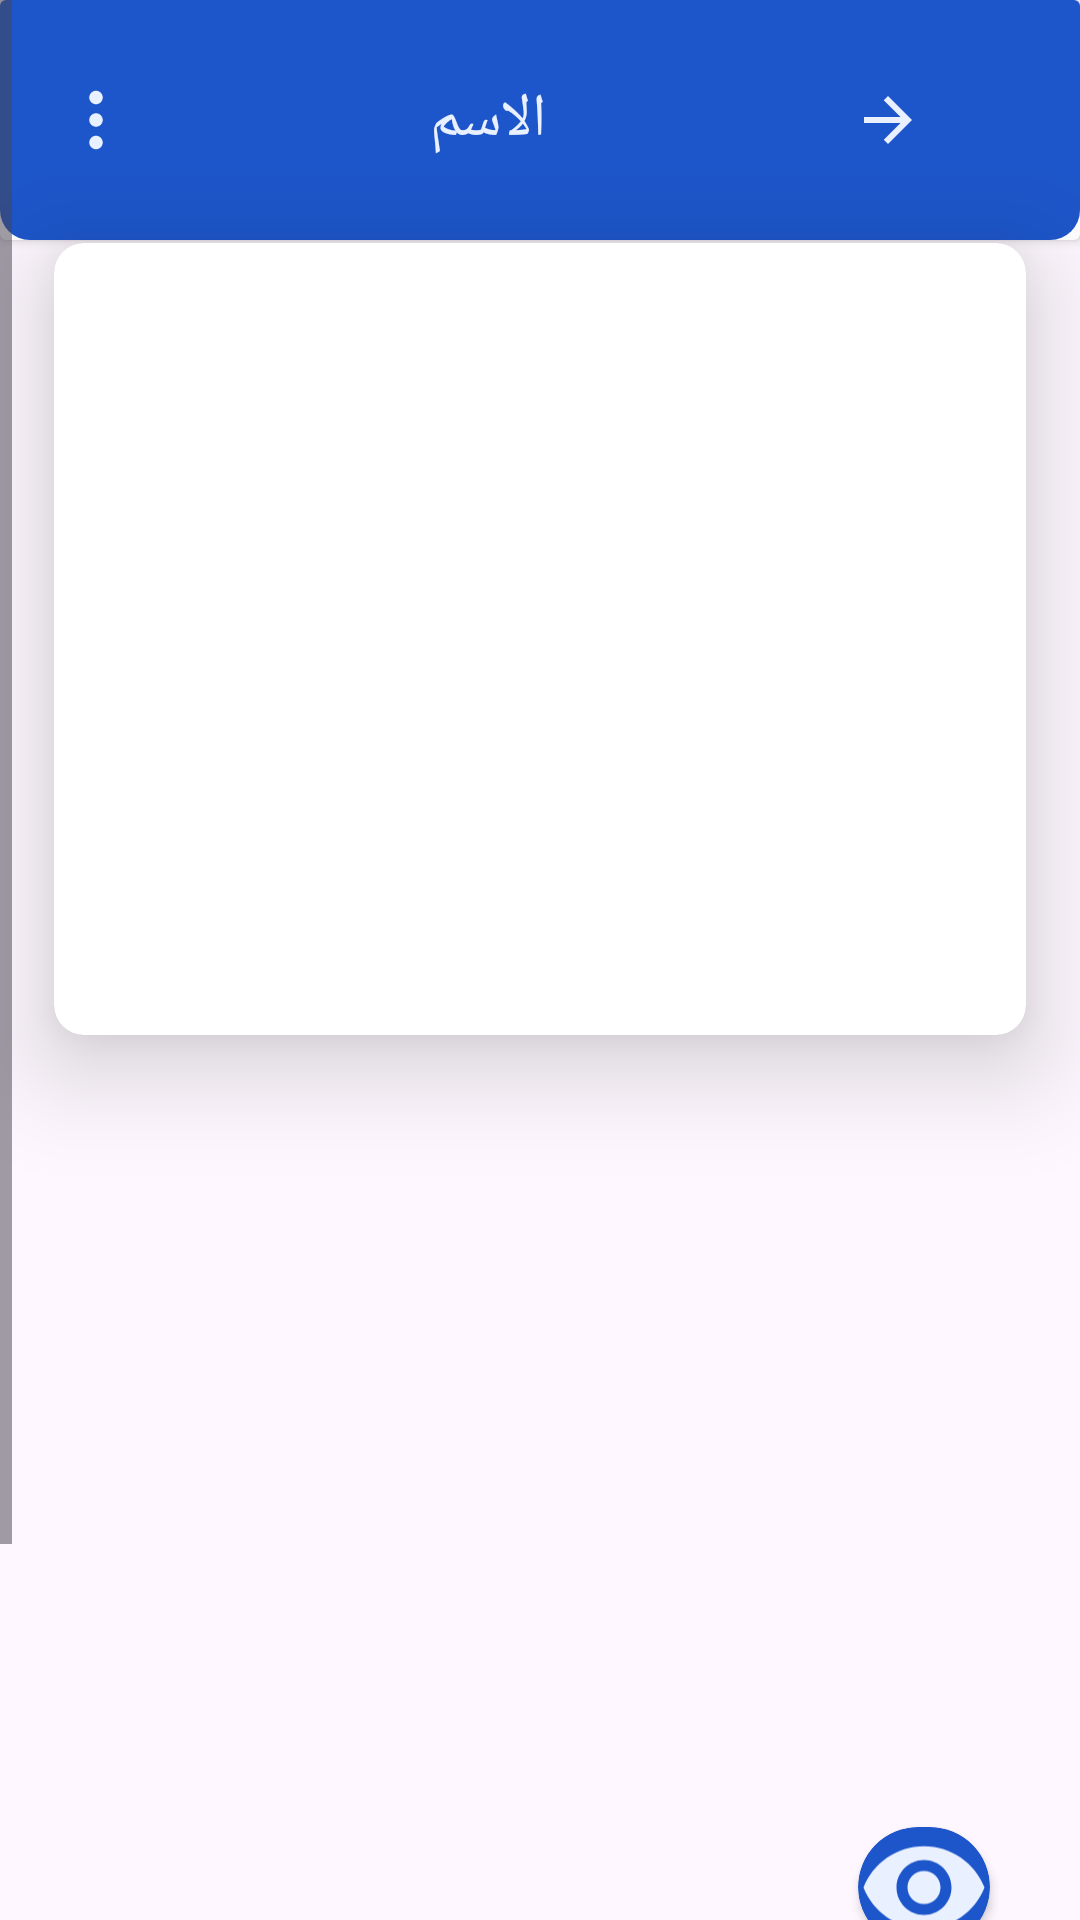

Icons on this 1080px×1920px Android screen, each with the point to tap as (x=x, y=y):
menu: (x=96, y=120)
